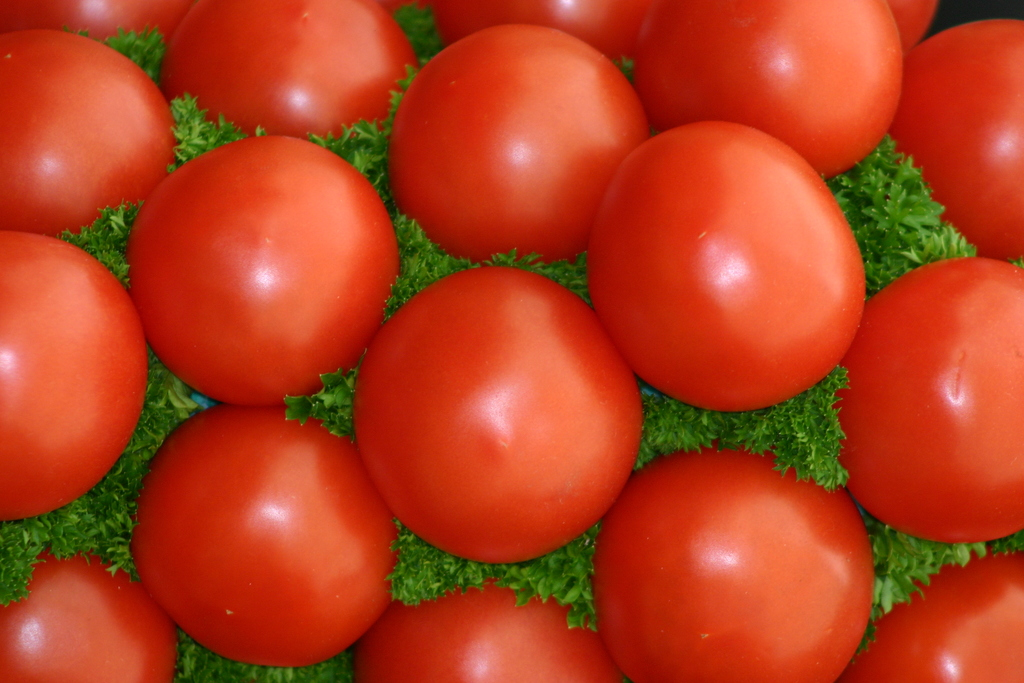Tomato: (348, 272, 641, 565), (586, 117, 862, 412), (123, 136, 394, 406), (137, 406, 400, 666), (590, 445, 872, 682), (388, 26, 645, 271), (839, 256, 1023, 543), (632, 0, 929, 177), (0, 235, 144, 522), (158, 0, 413, 148), (0, 32, 170, 248), (892, 18, 1023, 261), (353, 580, 615, 682), (0, 543, 177, 682), (840, 554, 1023, 682), (418, 0, 642, 64), (0, 0, 190, 49)
